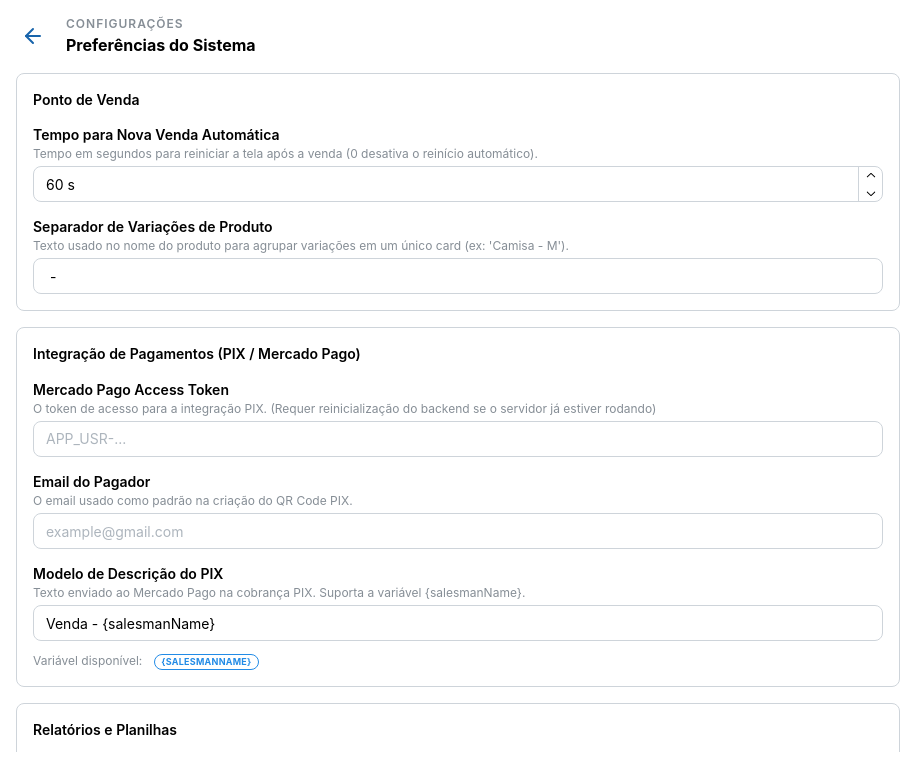
SettingsPage Component › GIVEN salesmanName badge WHEN clicked THEN appends tag to PIX template input
In the field labelled "Modelo de Descrição do PIX": (458, 623) [33,605,883,641], type "Cobrança Caixa"
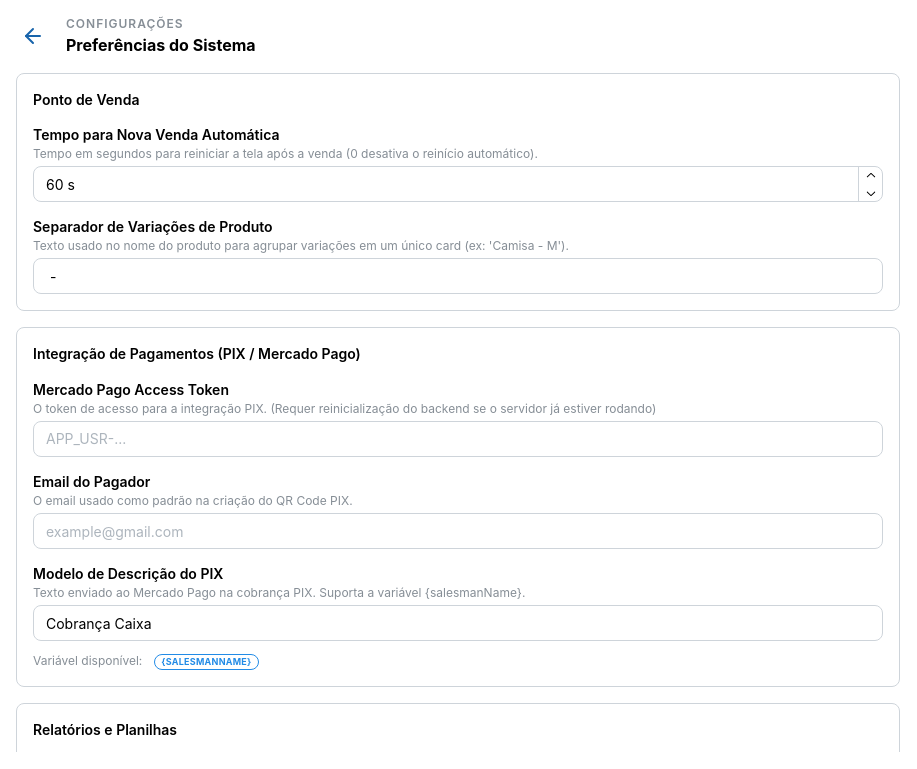
Click the text "{salesmanName}": (206, 662) [161,655,252,669]
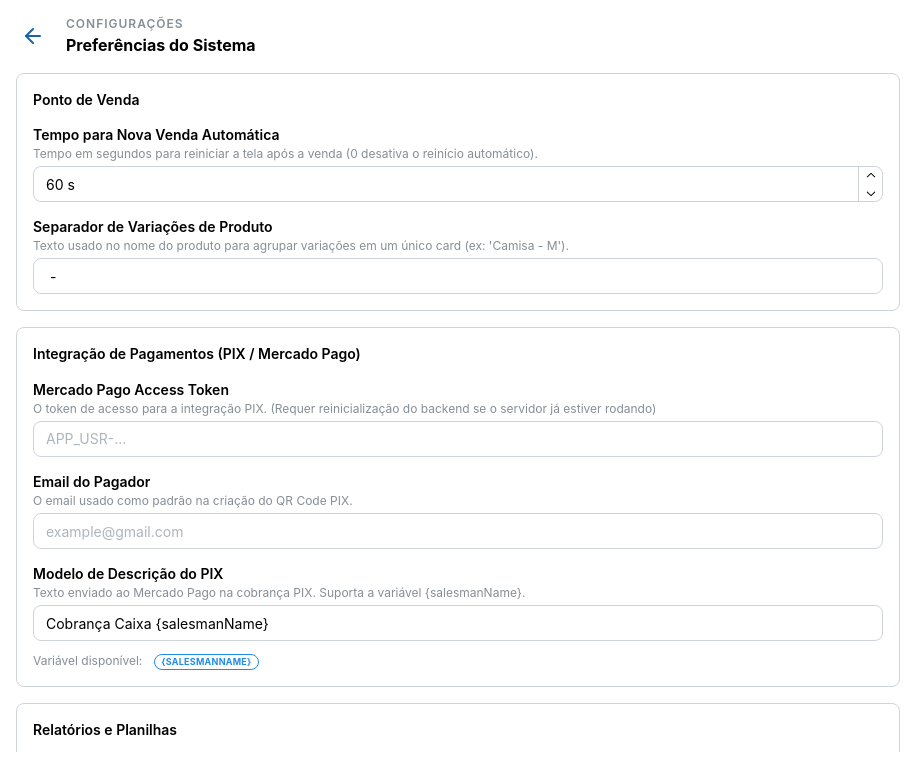
Now the field labelled "Modelo de Descrição do PIX" holds "Cobrança Caixa {salesmanName}", box [33,605,883,641]
